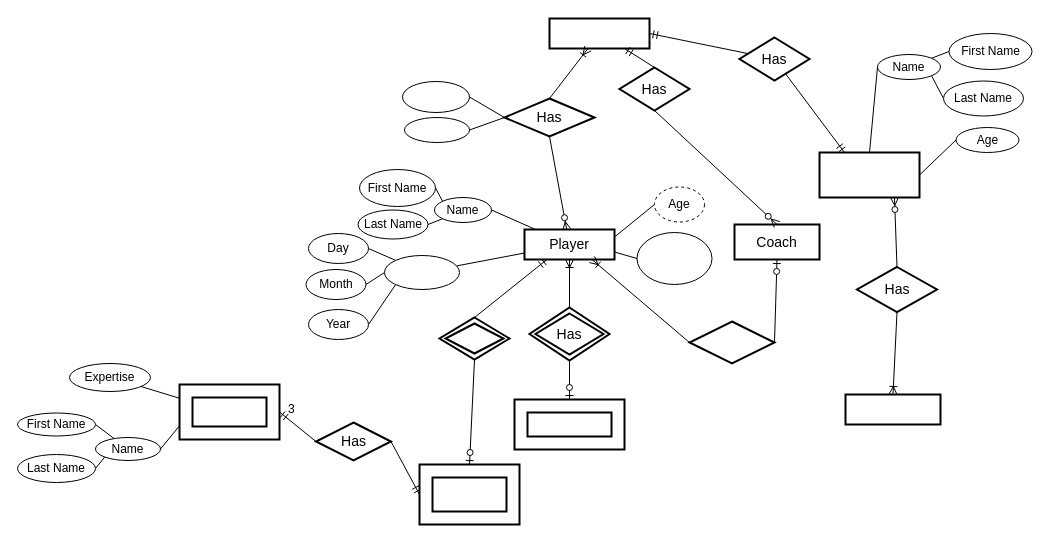
Image size: 1050x542. Some labels were removed from this diagram. Each missing label, with the centre of its shape:
"Birth day" belongs at [422,272].
"Blood group" belongs at [674,258].
"Cup" belongs at [892,409].
"Doctor" belongs at [229,411].
"FC" belongs at [599,33].
"Head Coach" belongs at [869,174].
"Injured player" belongs at [469,494].
"Is a" belongs at [474,338].
"Position" belongs at [569,424].
"Since" belongs at [437,129].
"Teach" belongs at [731,342].
"To" belongs at [436,96].
